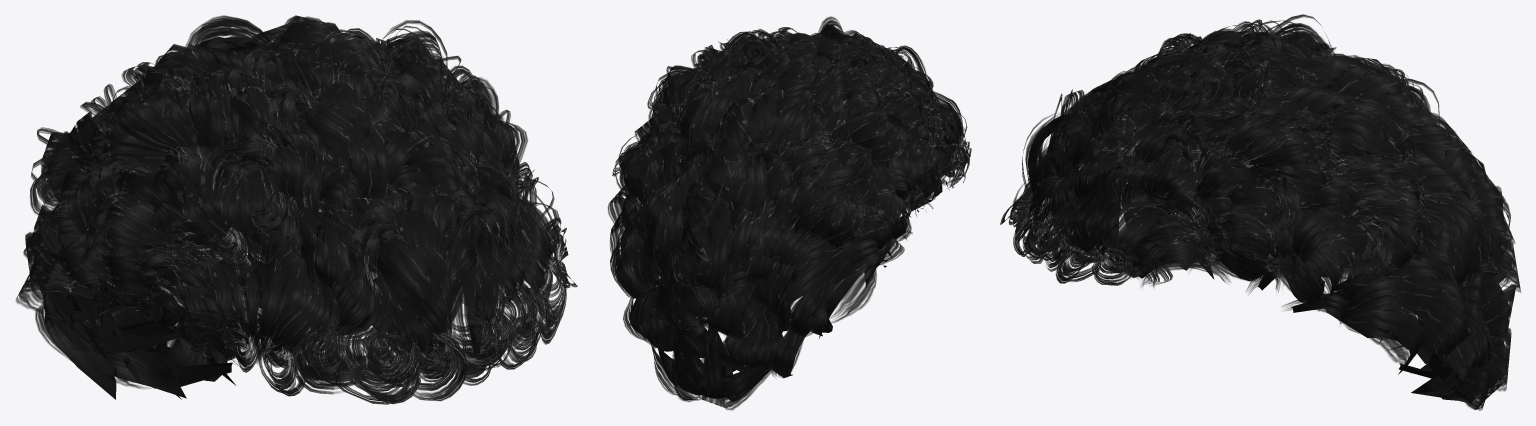
The model's file is Diamond_Curly_031.glb.
3 views of the same model, side by side, from view 1: azimuth 30°, elevation 25°; view 2: azimuth 150°, elevation 25°; view 3: azimuth 270°, elevation 25° (orthographic). The views are drawn at different scales.
Parts seen in each view (by area): view 1: diamond curly 03 layered tapered; view 2: diamond curly 03 layered tapered; view 3: diamond curly 03 layered tapered.
Boxes of the visible parts, x1=… form: diamond curly 03 layered tapered: x1=15, y1=15, x2=577, y2=404; diamond curly 03 layered tapered: x1=607, y1=16, x2=971, y2=410; diamond curly 03 layered tapered: x1=1000, y1=14, x2=1520, y2=410.
Size of the model in its own units: 0.1874 by 0.1881 by 0.2514.
Materials: 1 (1 with a texture image).
